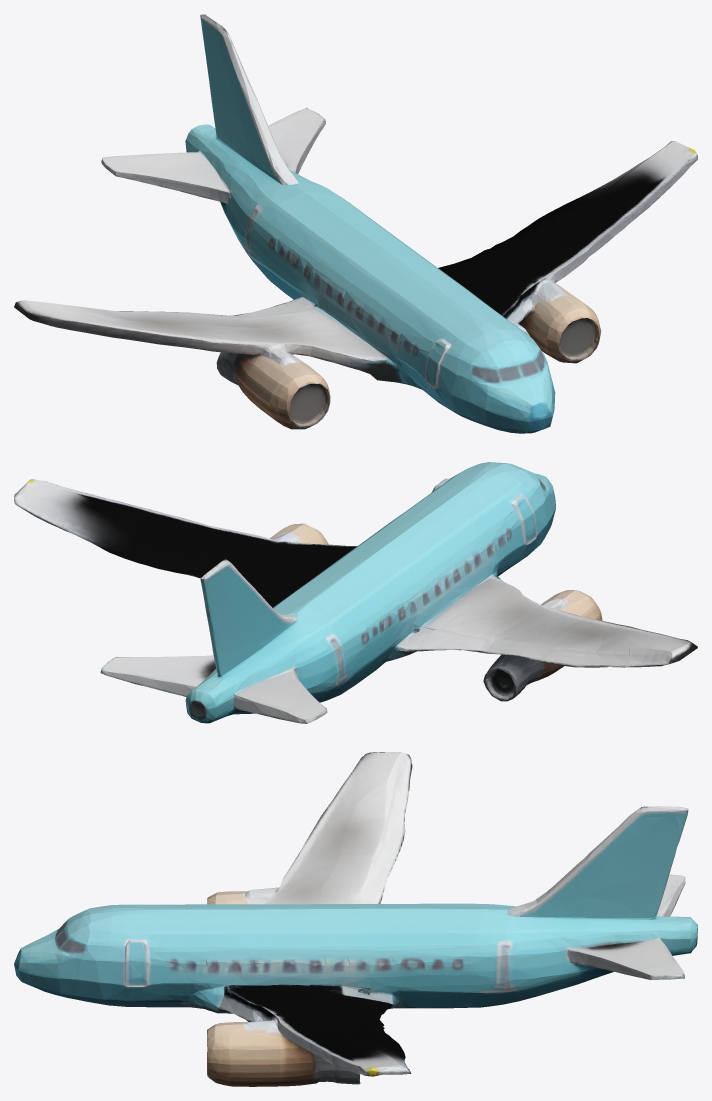
The model's file is airplane.glb.
The picture shows the model from 3 angles, top to bottom: view 1: azimuth 30°, elevation 25°; view 2: azimuth 150°, elevation 25°; view 3: azimuth 270°, elevation 25°; orthographic projection.
Parts seen in each view (by area): view 1: world; view 2: world; view 3: world.
Part boxes in pixels (left/top/right/bottom): world: left=14, top=14, right=697, bottom=433; world: left=14, top=462, right=697, bottom=723; world: left=14, top=752, right=697, bottom=1086.
Bounding box in the file's own units: 1 × 0.3073 × 0.897.
1 material, 1 textured.
